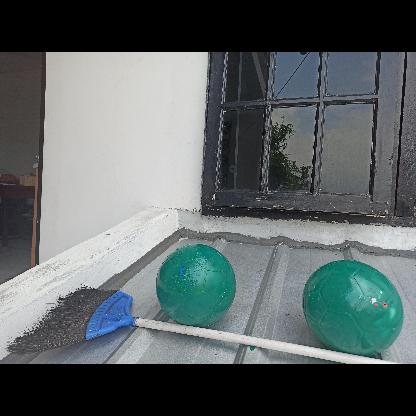green_ball: (300, 260, 404, 362), (158, 244, 238, 324)
